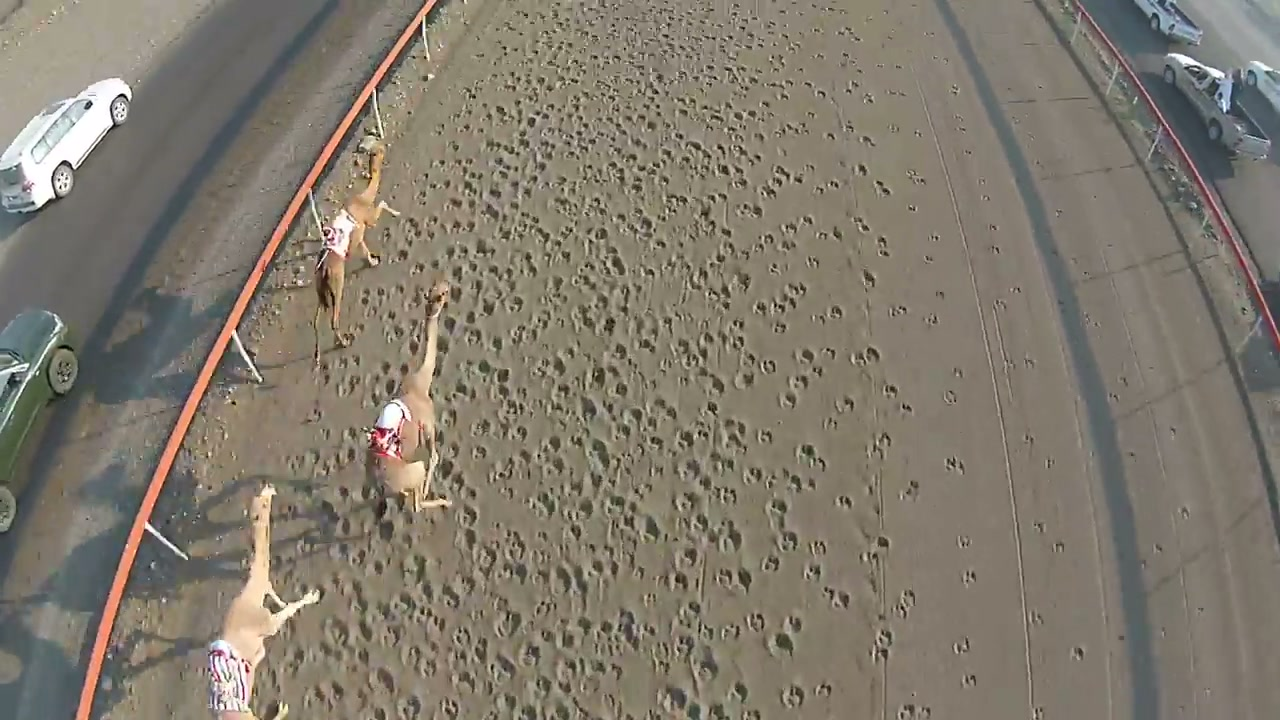animal_footprint: (271, 16, 870, 717)
